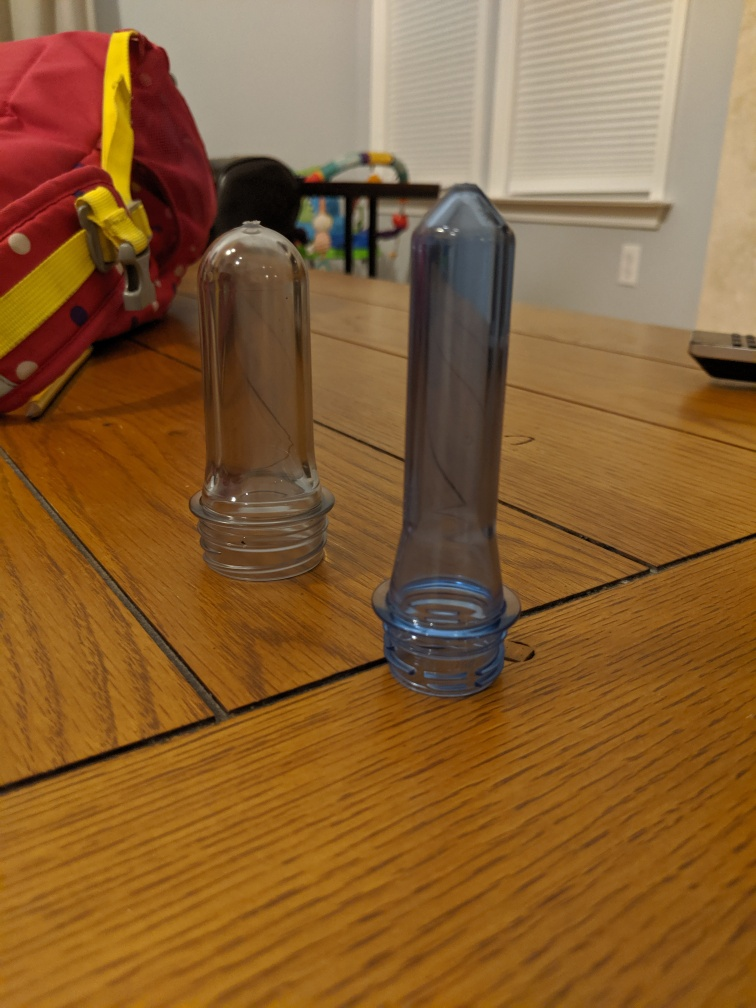preform: (364, 176, 536, 706), (182, 210, 348, 591)
